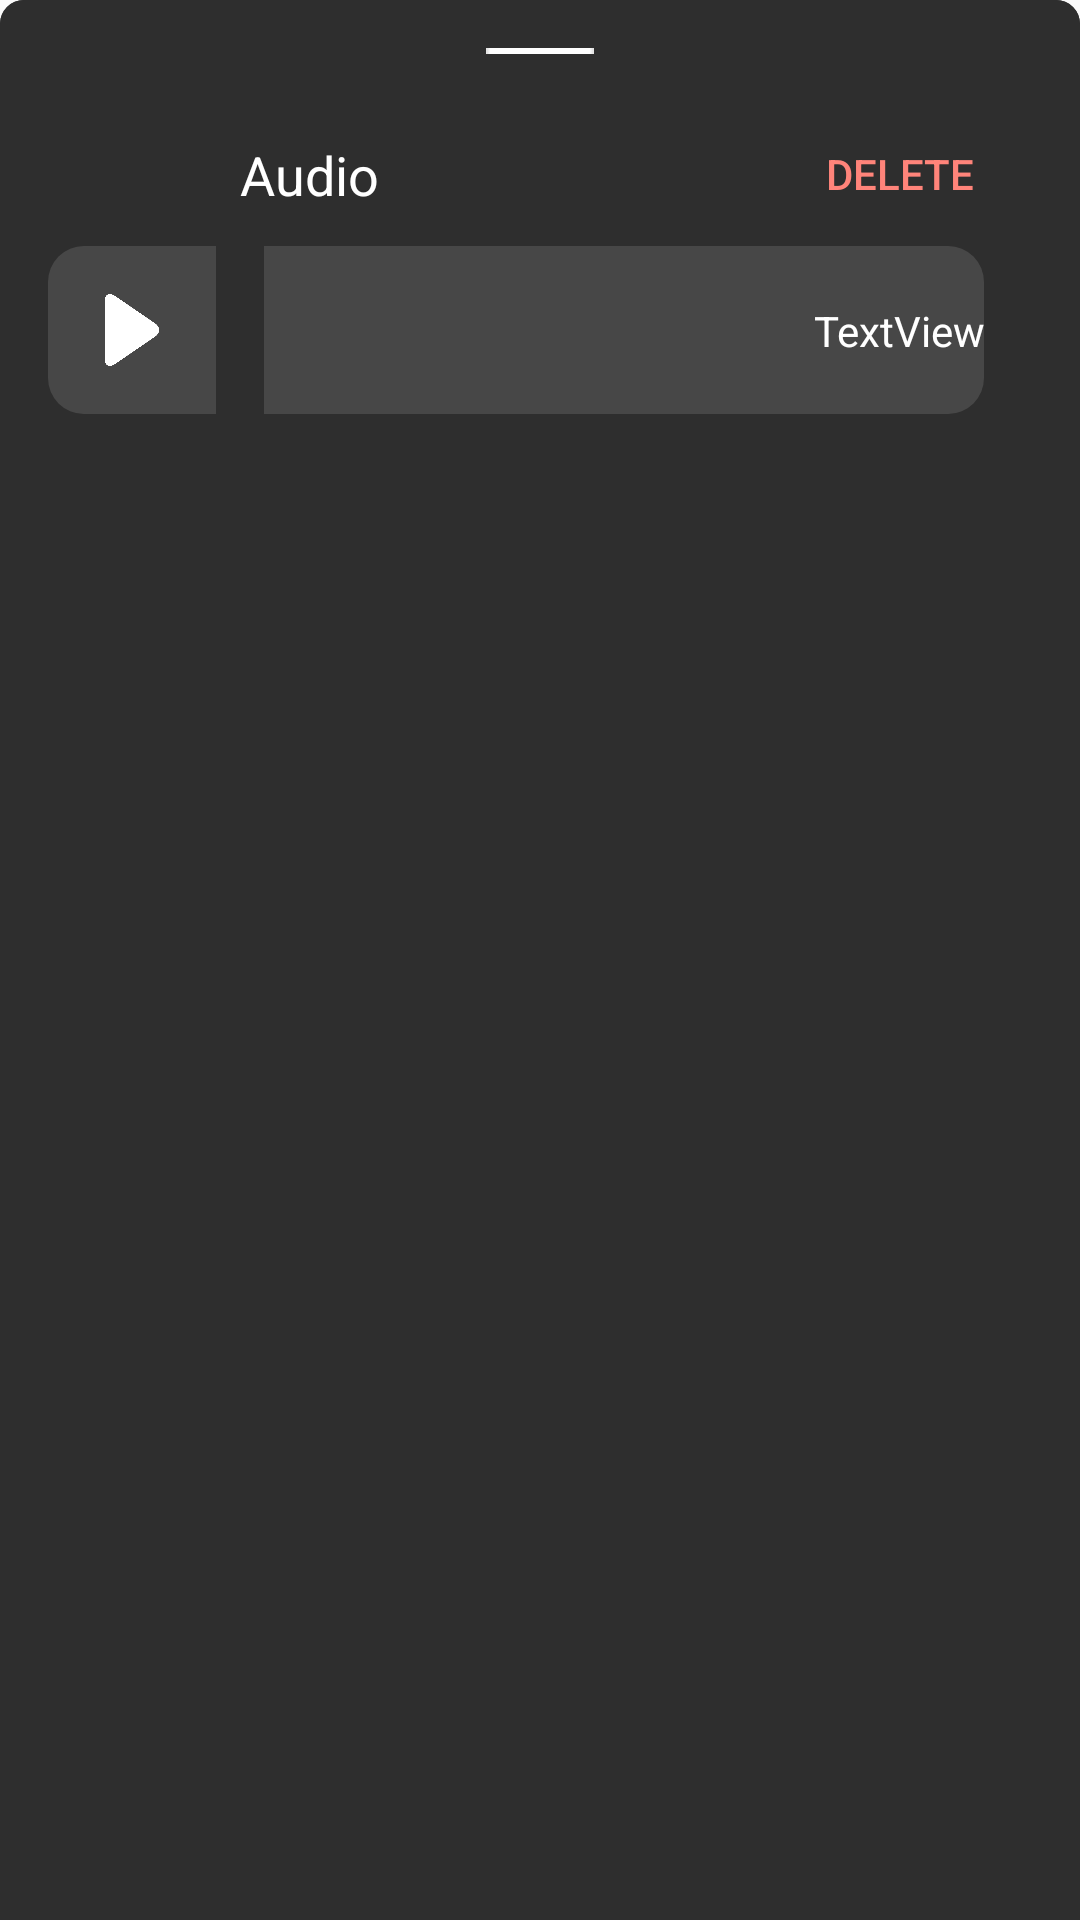

Icon bounding boxes for this 1080 x 1920 phone screenshot, format (left=x1, top=y1, right=x2, bottom=y2):
play: (left=48, top=246, right=216, bottom=414)
